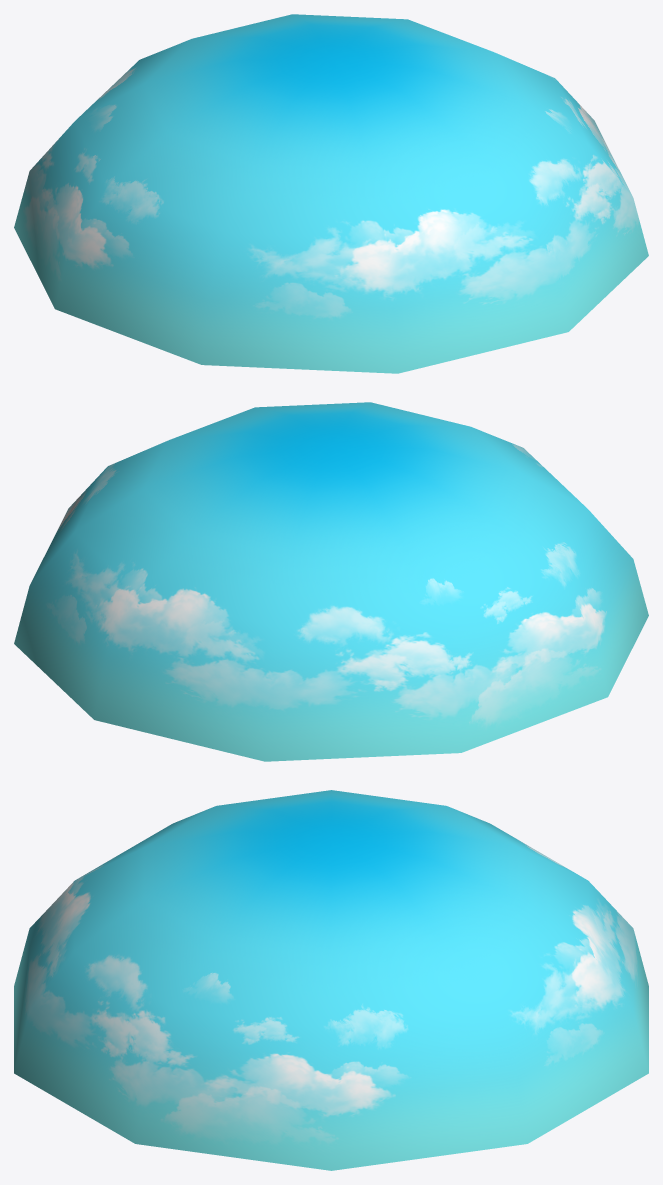
File: SD_Sky_001.fbx
3 views of the same model, one above another, from view 1: azimuth 30°, elevation 25°; view 2: azimuth 150°, elevation 25°; view 3: azimuth 270°, elevation 25° (orthographic). The views are drawn at different scales.
Visible parts, largest first — view 1: sdsfs:Mesh; view 2: sdsfs:Mesh; view 3: sdsfs:Mesh.
Boxes of the visible parts, <box> form: sdsfs:Mesh: <box>14,14,648,373</box>; sdsfs:Mesh: <box>14,402,648,761</box>; sdsfs:Mesh: <box>14,790,648,1170</box>.
Size of the model in its own units: 367 by 118 by 349.
